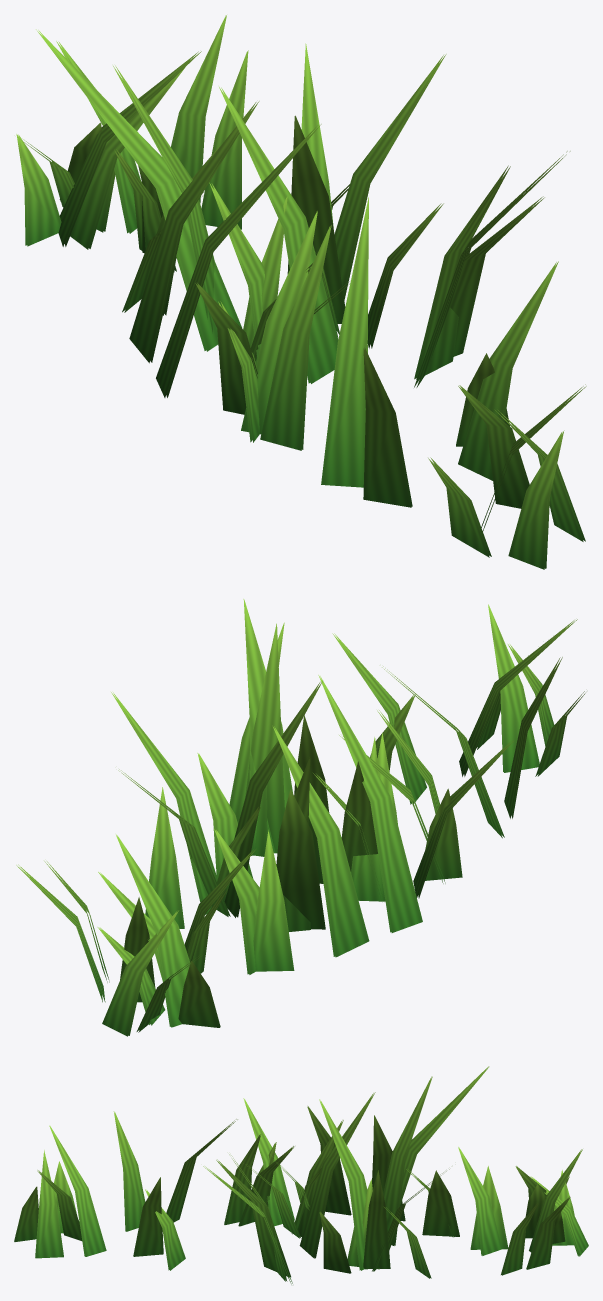
File: Kit_GrassTuft.obj
3 renders of one model, top to bottom at view 1: azimuth 30°, elevation 25°; view 2: azimuth 150°, elevation 25°; view 3: azimuth 270°, elevation 25°, orthographic. The views are drawn at different scales.
Visible parts, largest first — view 1: Kit_GrassTuft; view 2: Kit_GrassTuft; view 3: Kit_GrassTuft.
Part boxes in pixels (bbox=[...]): Kit_GrassTuft: bbox=[16, 15, 586, 569]; Kit_GrassTuft: bbox=[16, 599, 585, 1036]; Kit_GrassTuft: bbox=[14, 1066, 588, 1284].
Bounding box in the file's own units: 3.08 × 2.08 × 7.22.
1 material, 1 textured.
